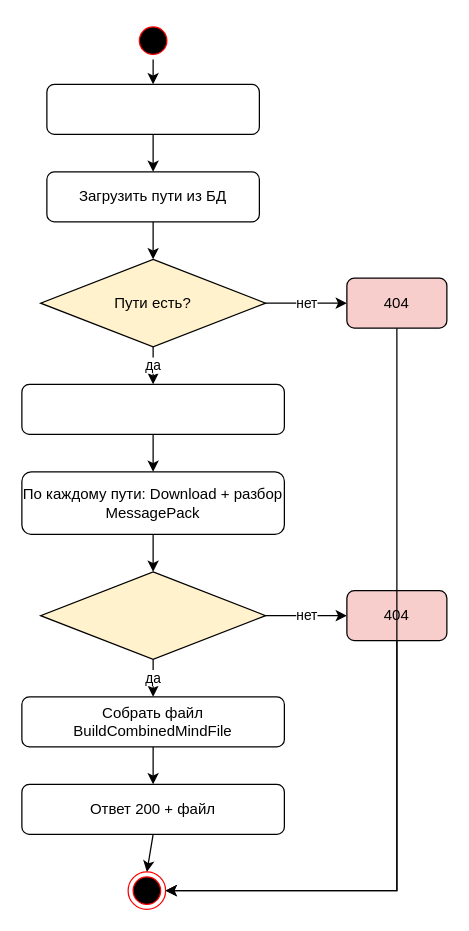
The diagram is 469 pixels wide and 931 high, and some of its shapes have lost their labels. The shapes that lost their labels are listed below. From the top down, each one's centre as x and y in pixels, then its label:
At (x=152, y=108): "Запрос combined-mind".
At (x=152, y=408): "Инициализировать список байтов dataList".
At (x=152, y=615): "Элементы извлечены?".
